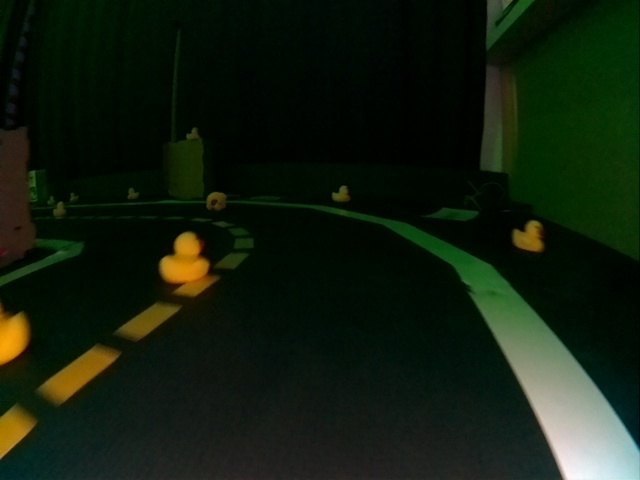Duckie: (159, 233, 206, 281), (513, 221, 544, 252), (208, 192, 224, 211), (332, 186, 346, 202), (187, 129, 199, 140), (54, 204, 64, 214), (128, 189, 138, 199), (47, 196, 54, 204), (70, 193, 77, 200)
